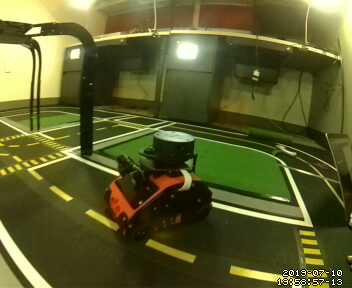pheeno: (102, 122, 212, 245)
